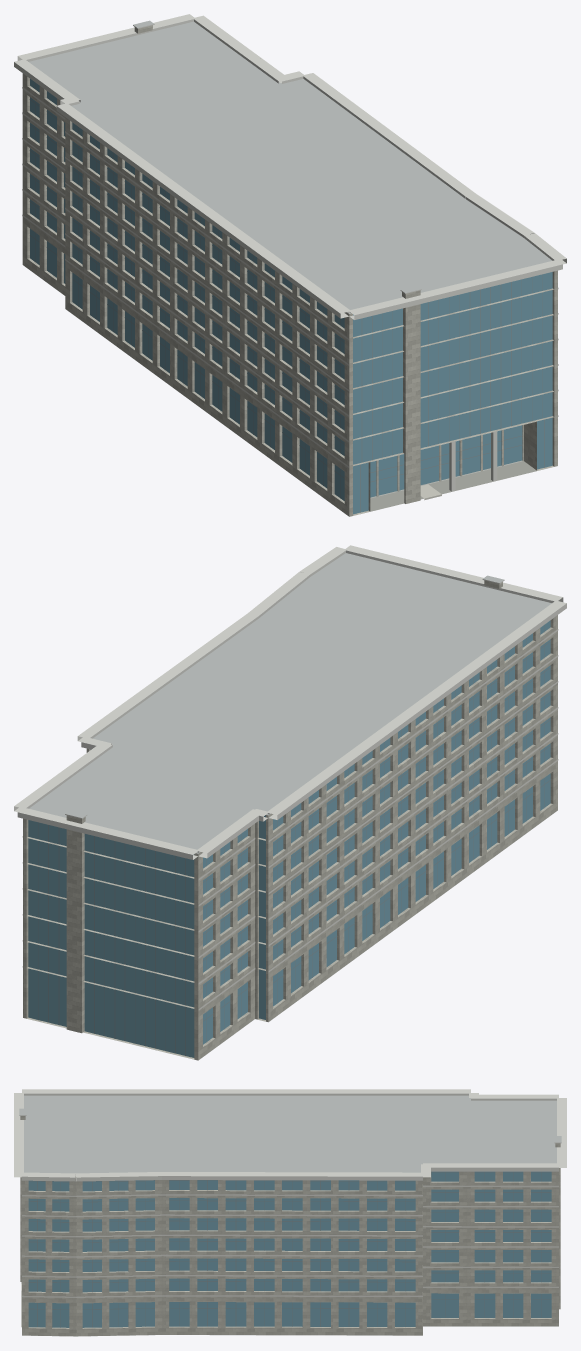
The picture shows the model from 3 angles, top to bottom: view 1: azimuth 30°, elevation 25°; view 2: azimuth 150°, elevation 25°; view 3: azimuth 270°, elevation 25°; orthographic projection. The views are drawn at different scales.
Parts seen in each view (by area): view 1: unist-batch-b106__base, b106__glass, b106__wall, b106__trim, b106__frame; view 2: unist-batch-b106__base, b106__wall, b106__glass, b106__trim, b106__frame; view 3: b106__wall, unist-batch-b106__base, b106__glass, b106__trim, b106__frame.
Part boxes in pixels (x1,y1,x2,y2): unist-batch-b106__base: (23,20,557,516); b106__glass: (30,79,552,514); b106__wall: (22,25,557,516); b106__trim: (14,14,566,467); b106__frame: (29,83,544,512); unist-batch-b106__base: (25,553,557,1060); b106__wall: (23,580,557,1060); b106__glass: (28,620,550,1057); b106__trim: (14,545,566,1010); b106__frame: (38,625,550,1055); b106__wall: (20,1116,560,1336); unist-batch-b106__base: (19,1095,561,1336); b106__glass: (28,1171,551,1327); b106__trim: (14,1089,566,1297); b106__frame: (28,1172,551,1327).
Size of the model in its own units: 33.72 by 30.05 by 89.43.
Materials: 6 (1 with a texture image).
